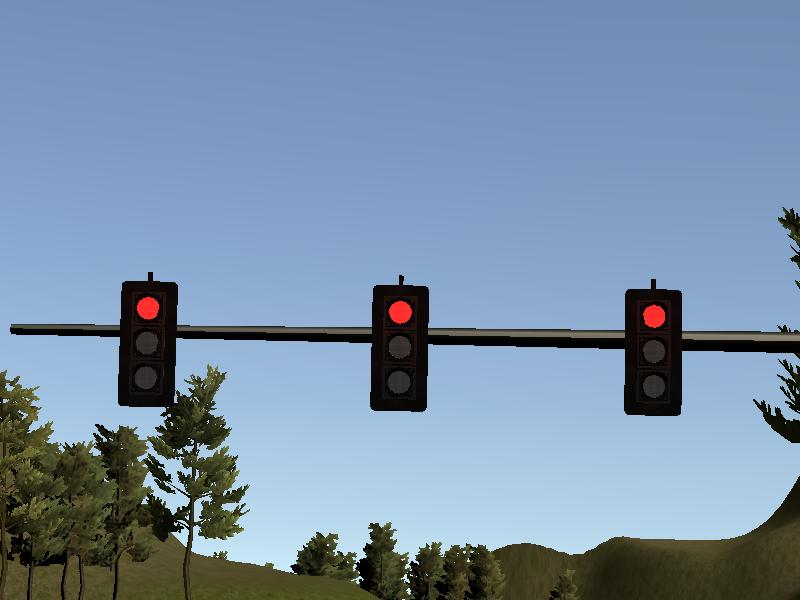red: (118, 279, 178, 406), (369, 286, 429, 413), (622, 290, 682, 417)
